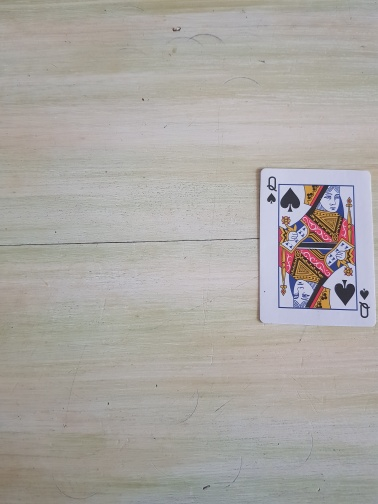queen: (257, 166, 378, 329)
